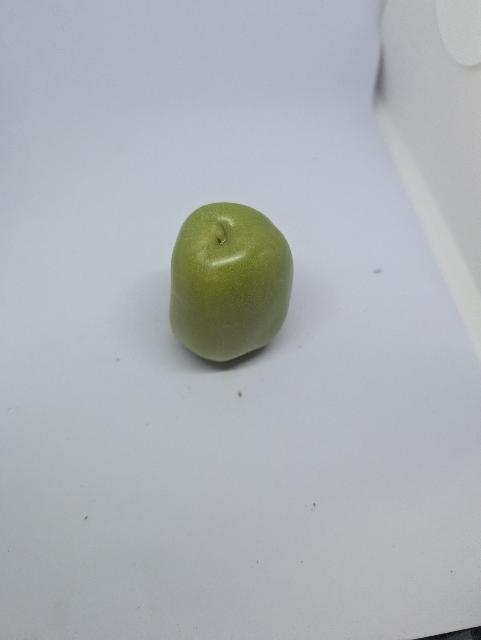green: (161, 191, 300, 373)
